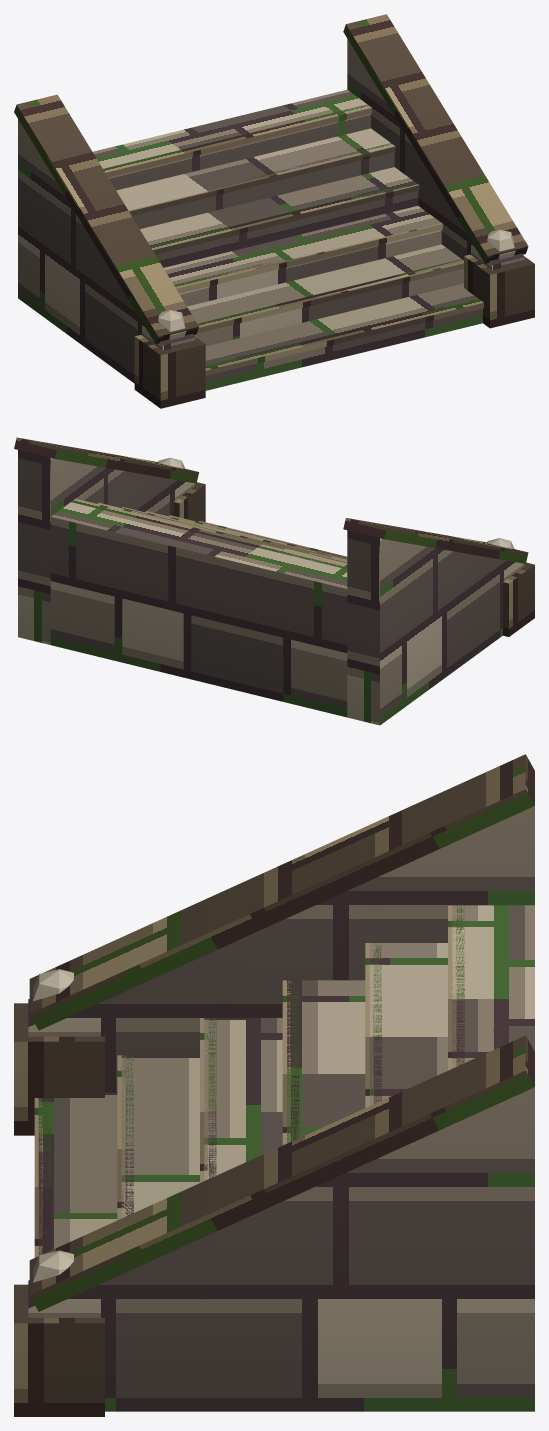
The model's file is scene_stair_spire.glb.
The picture shows the model from 3 angles, top to bottom: view 1: azimuth 30°, elevation 25°; view 2: azimuth 150°, elevation 25°; view 3: azimuth 270°, elevation 25°; orthographic projection. The views are drawn at different scales.
Parts seen in each view (by area): view 1: scene_stair_spire; view 2: scene_stair_spire; view 3: scene_stair_spire.
Part boxes in pixels (x1=…): scene_stair_spire: x1=14, y1=14, x2=534, y2=408; scene_stair_spire: x1=14, y1=437, x2=534, y2=725; scene_stair_spire: x1=14, y1=754, x2=534, y2=1416.
Size of the model in its own units: 3.66 by 1.84 by 2.52.
2 materials, 1 textured.
